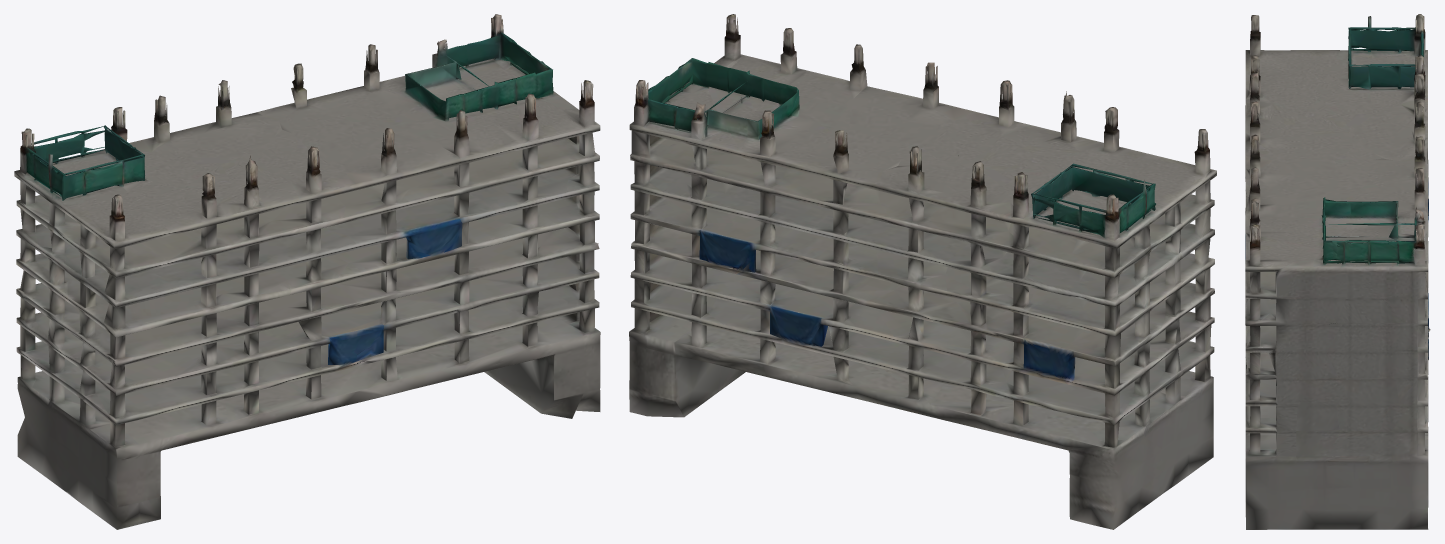
The model's file is teluk-tower-frame.glb.
3 views of the same model, side by side, from view 1: azimuth 30°, elevation 25°; view 2: azimuth 150°, elevation 25°; view 3: azimuth 270°, elevation 25° (orthographic). The views are drawn at different scales.
Parts seen in each view (by area): view 1: teluk-tower-frame; view 2: teluk-tower-frame; view 3: teluk-tower-frame.
Part boxes in pixels (left/top/right/bottom): teluk-tower-frame: left=14, top=14, right=600, bottom=529; teluk-tower-frame: left=629, top=14, right=1216, bottom=529; teluk-tower-frame: left=1245, top=14, right=1430, bottom=529.
Size of the model in its own units: 76.6 by 50.56 by 27.56.
1 material, 1 textured.
